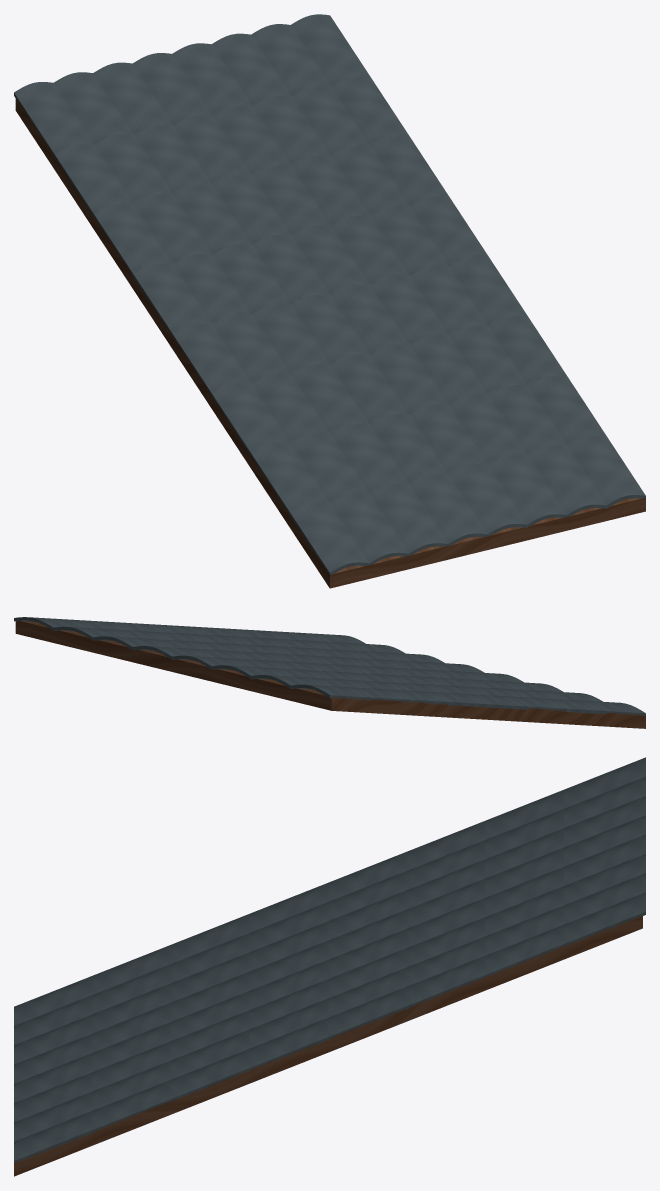
Rendered from roof_slope.gltf.
3 views of the same model, one above another, from view 1: azimuth 30°, elevation 25°; view 2: azimuth 150°, elevation 25°; view 3: azimuth 270°, elevation 25° (orthographic).
Size of the model in its own units: 1.8 by 1.47 by 3.12.
Materials: 2 (2 with a texture image).
